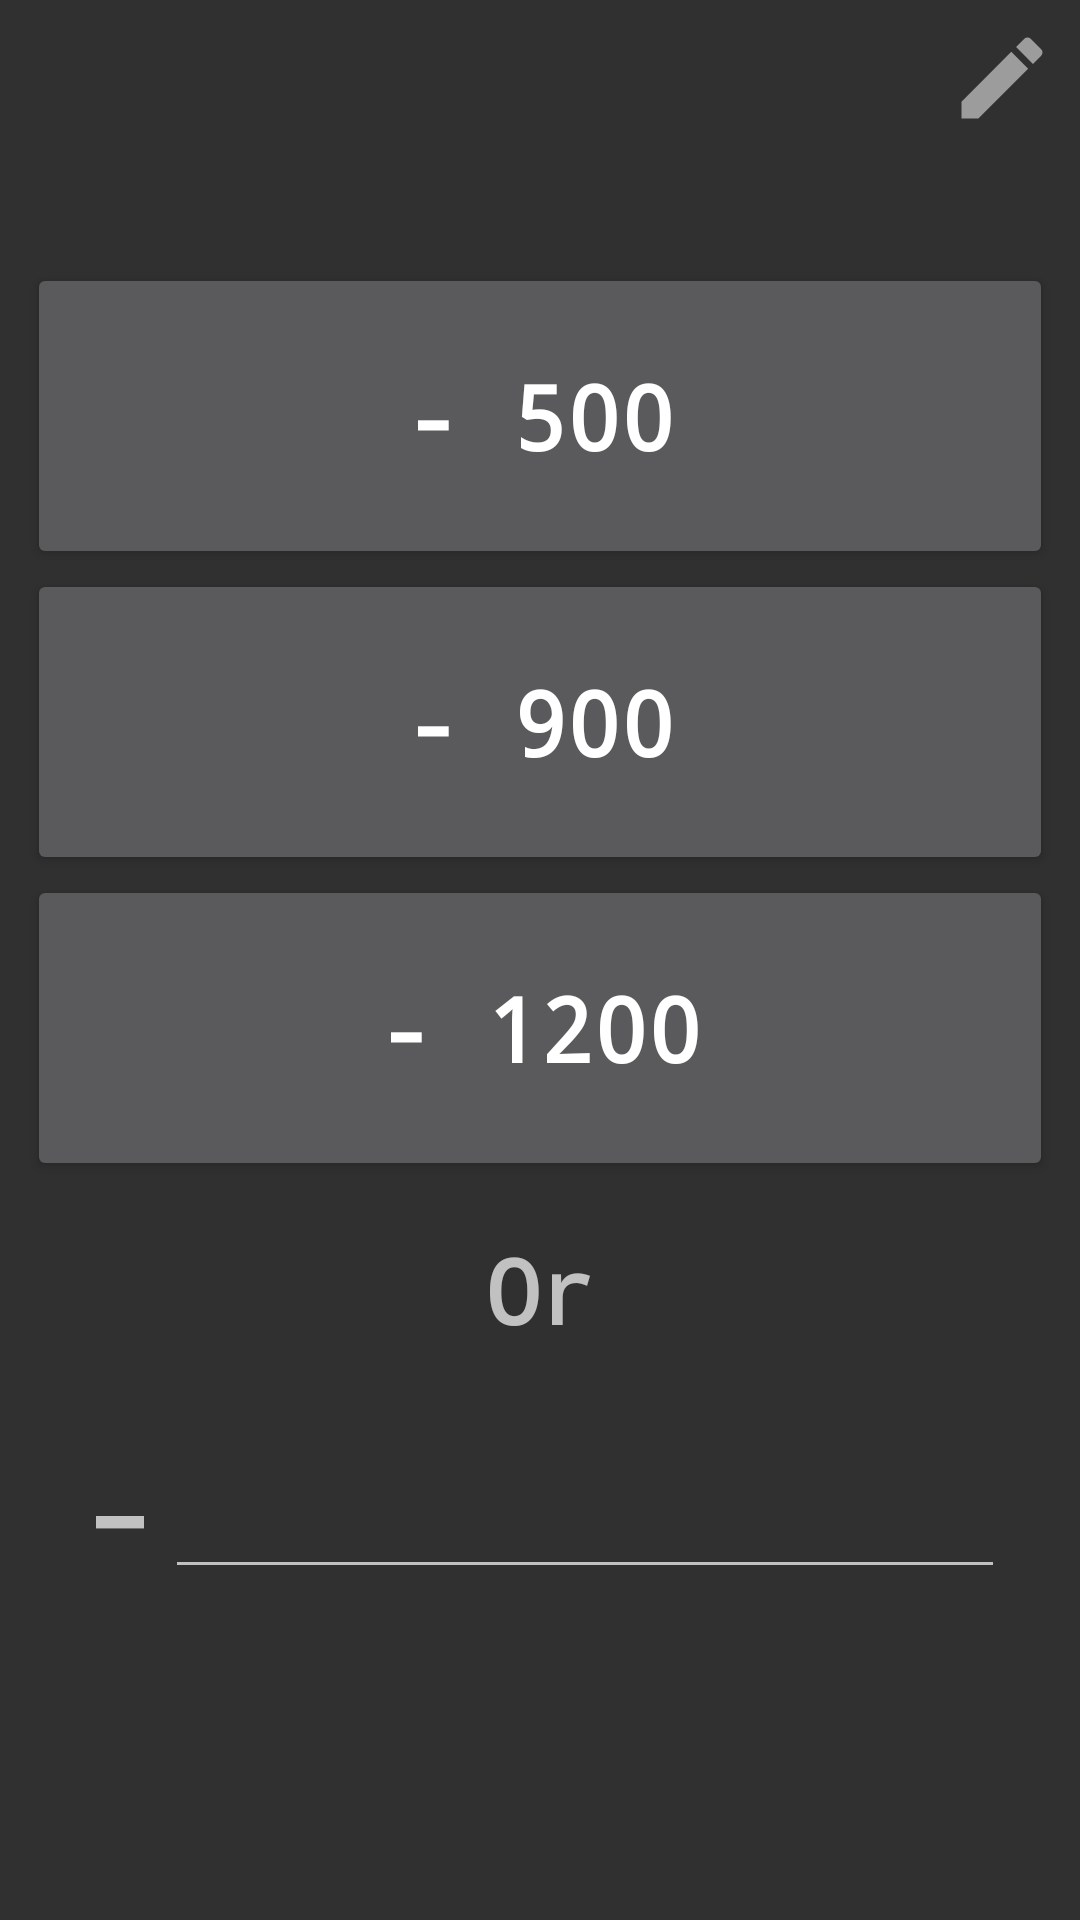

Screen size 1080w x 1920h. Icon name, then its box in pixels as bbox(x1, y1, x2, y2):
edit: bbox(961, 37, 1043, 119)
